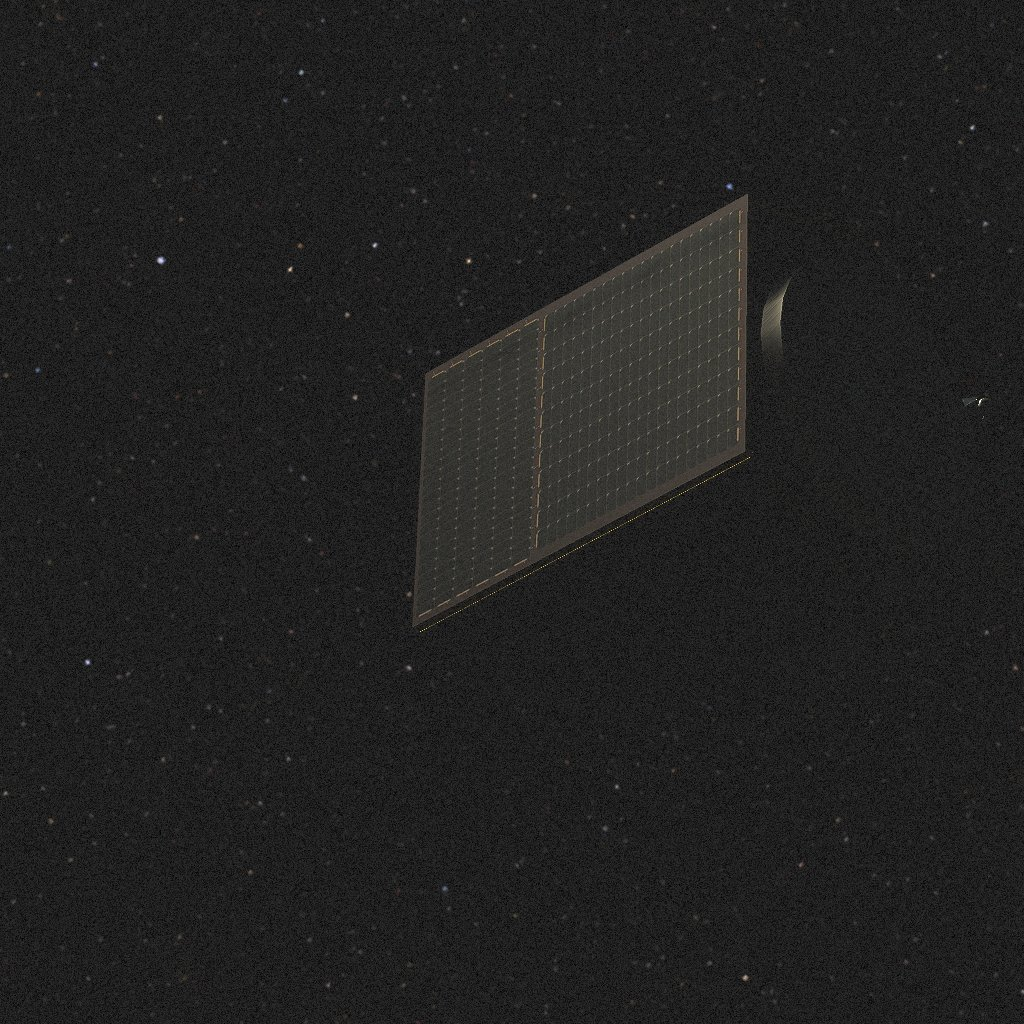cheops: (412, 194, 1014, 725)
